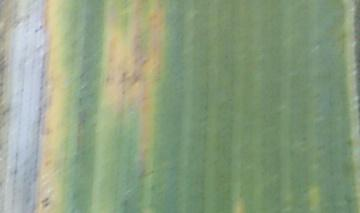tarspot: (33, 24, 45, 36), (40, 196, 51, 208)
